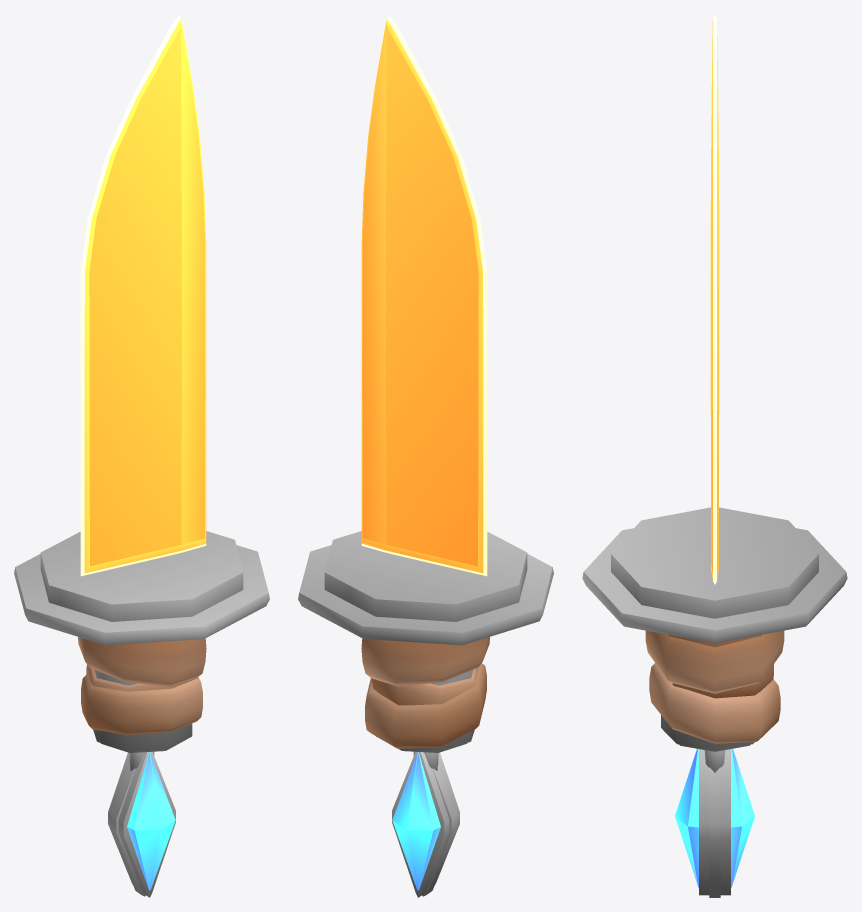
File: example_sword_019.glb
3 renders of one model, left to right at view 1: azimuth 30°, elevation 25°; view 2: azimuth 150°, elevation 25°; view 3: azimuth 270°, elevation 25°, orthographic. The views are drawn at different scales.
Visible parts, largest first — view 1: example_sword.019; view 2: example_sword.019; view 3: example_sword.019.
Boxes of the visible parts, <box> form: example_sword.019: <box>14,14,269,897</box>; example_sword.019: <box>298,14,553,897</box>; example_sword.019: <box>582,14,847,897</box>.
Bounding box in the file's own units: 5.19 × 18.47 × 4.92.
1 material, 1 textured.
